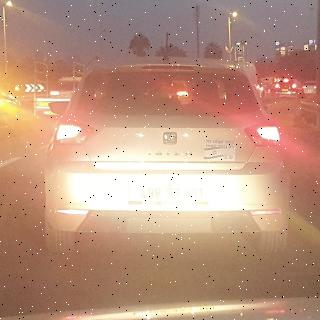LicensePlate: (136, 187, 209, 201)
